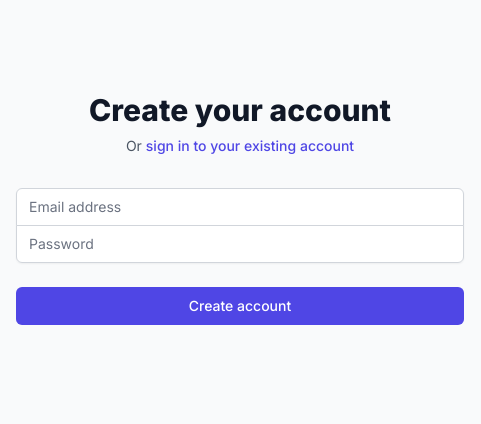
Password Strength Indicator › shows password strength indicator when password is entered
The image size is (481, 424).
Expected: the text "Password strength:" is not shown
Type a password
In the password field labelled "Password": (240, 244) [16,224,464,262], type "password123"
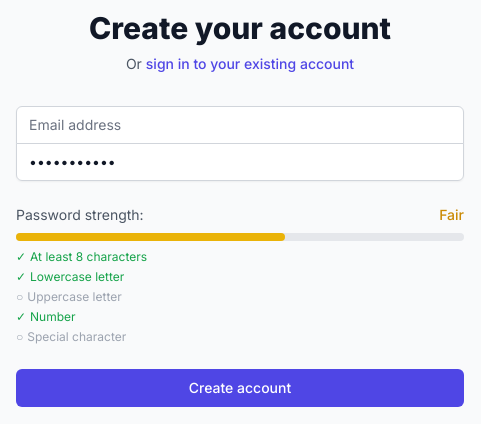
Now the text "Password strength:" is shown, box [16,204,144,224]
Now the text "Fair" is shown, box [439,204,464,224]
